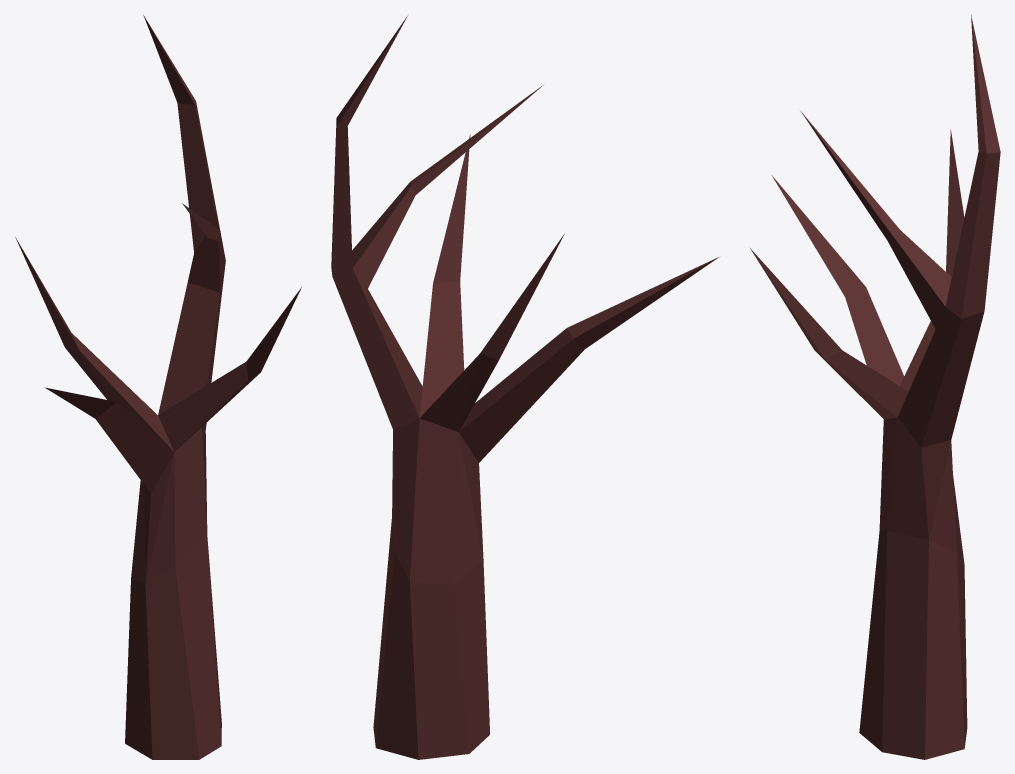
File: TreeAutumn6_Alt2.fbx
3 views of the same model, side by side, from view 1: azimuth 30°, elevation 25°; view 2: azimuth 150°, elevation 25°; view 3: azimuth 270°, elevation 25° (orthographic). The views are drawn at different scales.
Parts seen in each view (by area): view 1: TreeAutumn6_Alt2; view 2: TreeAutumn6_Alt2; view 3: TreeAutumn6_Alt2.
Part boxes in pixels (bbox=[...]): TreeAutumn6_Alt2: bbox=[15, 15, 301, 759]; TreeAutumn6_Alt2: bbox=[331, 16, 718, 759]; TreeAutumn6_Alt2: bbox=[750, 15, 1000, 759].
Bounding box in the file's own units: 0.8585 × 2.11 × 0.6677.
